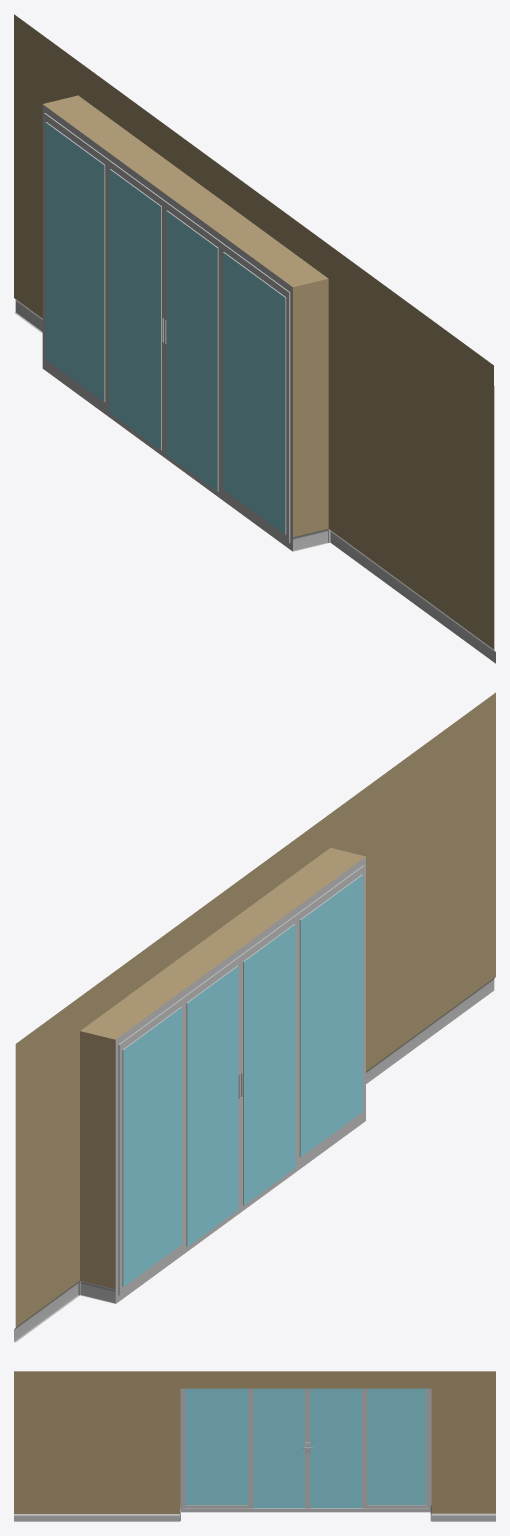
File: frenchwindow.FBX
The picture shows the model from 3 angles, top to bottom: view 1: azimuth 30°, elevation 25°; view 2: azimuth 150°, elevation 25°; view 3: azimuth 270°, elevation 25°; orthographic projection. The views are drawn at different scales.
Visible parts, largest first — view 1: Right handle; view 2: Right handle; view 3: Right handle.
Boxes of the visible parts, x1=… form: Right handle: x1=14, y1=14, x2=495, y2=663; Right handle: x1=14, y1=692, x2=495, y2=1342; Right handle: x1=14, y1=1371, x2=495, y2=1521.
Bounding box in the file's own units: 335 × 2400 × 6995.
